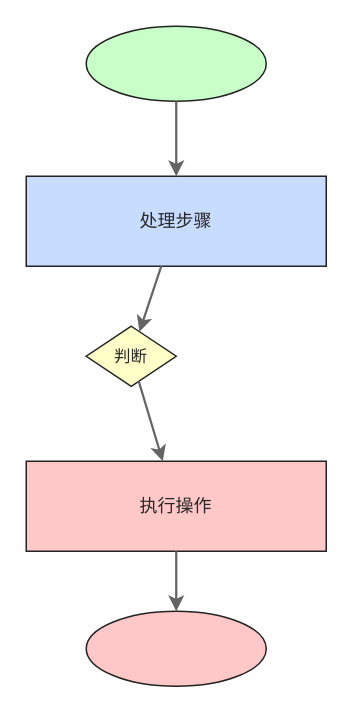
The diagram is 353 pixels wide and 713 high, and some of its shapes have lost their labels. The shapes that lost their labels are listed below. From the top down, each one's centre as x and y in pixels, then its label:
(175,63): 开始
(175,648): 结束
